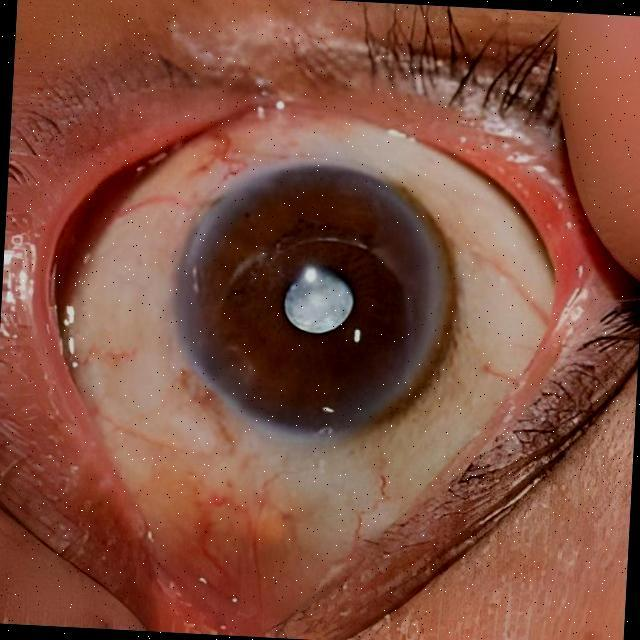Cataract: (164, 161, 468, 446)
